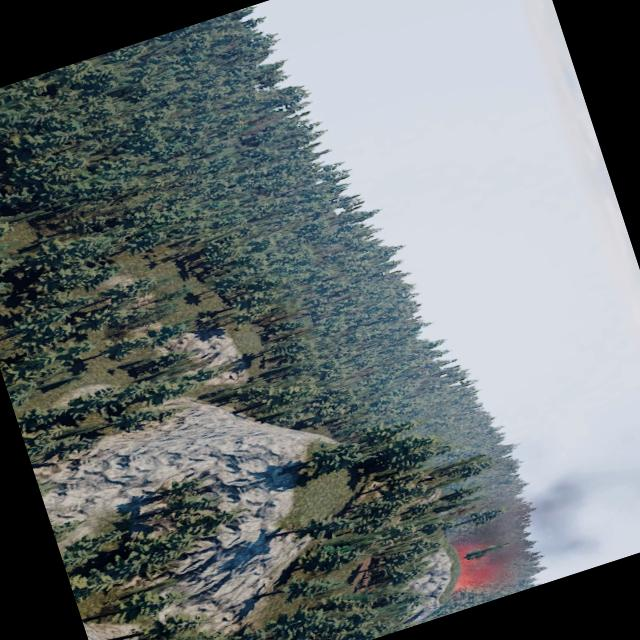smoke: (435, 461, 633, 604)
